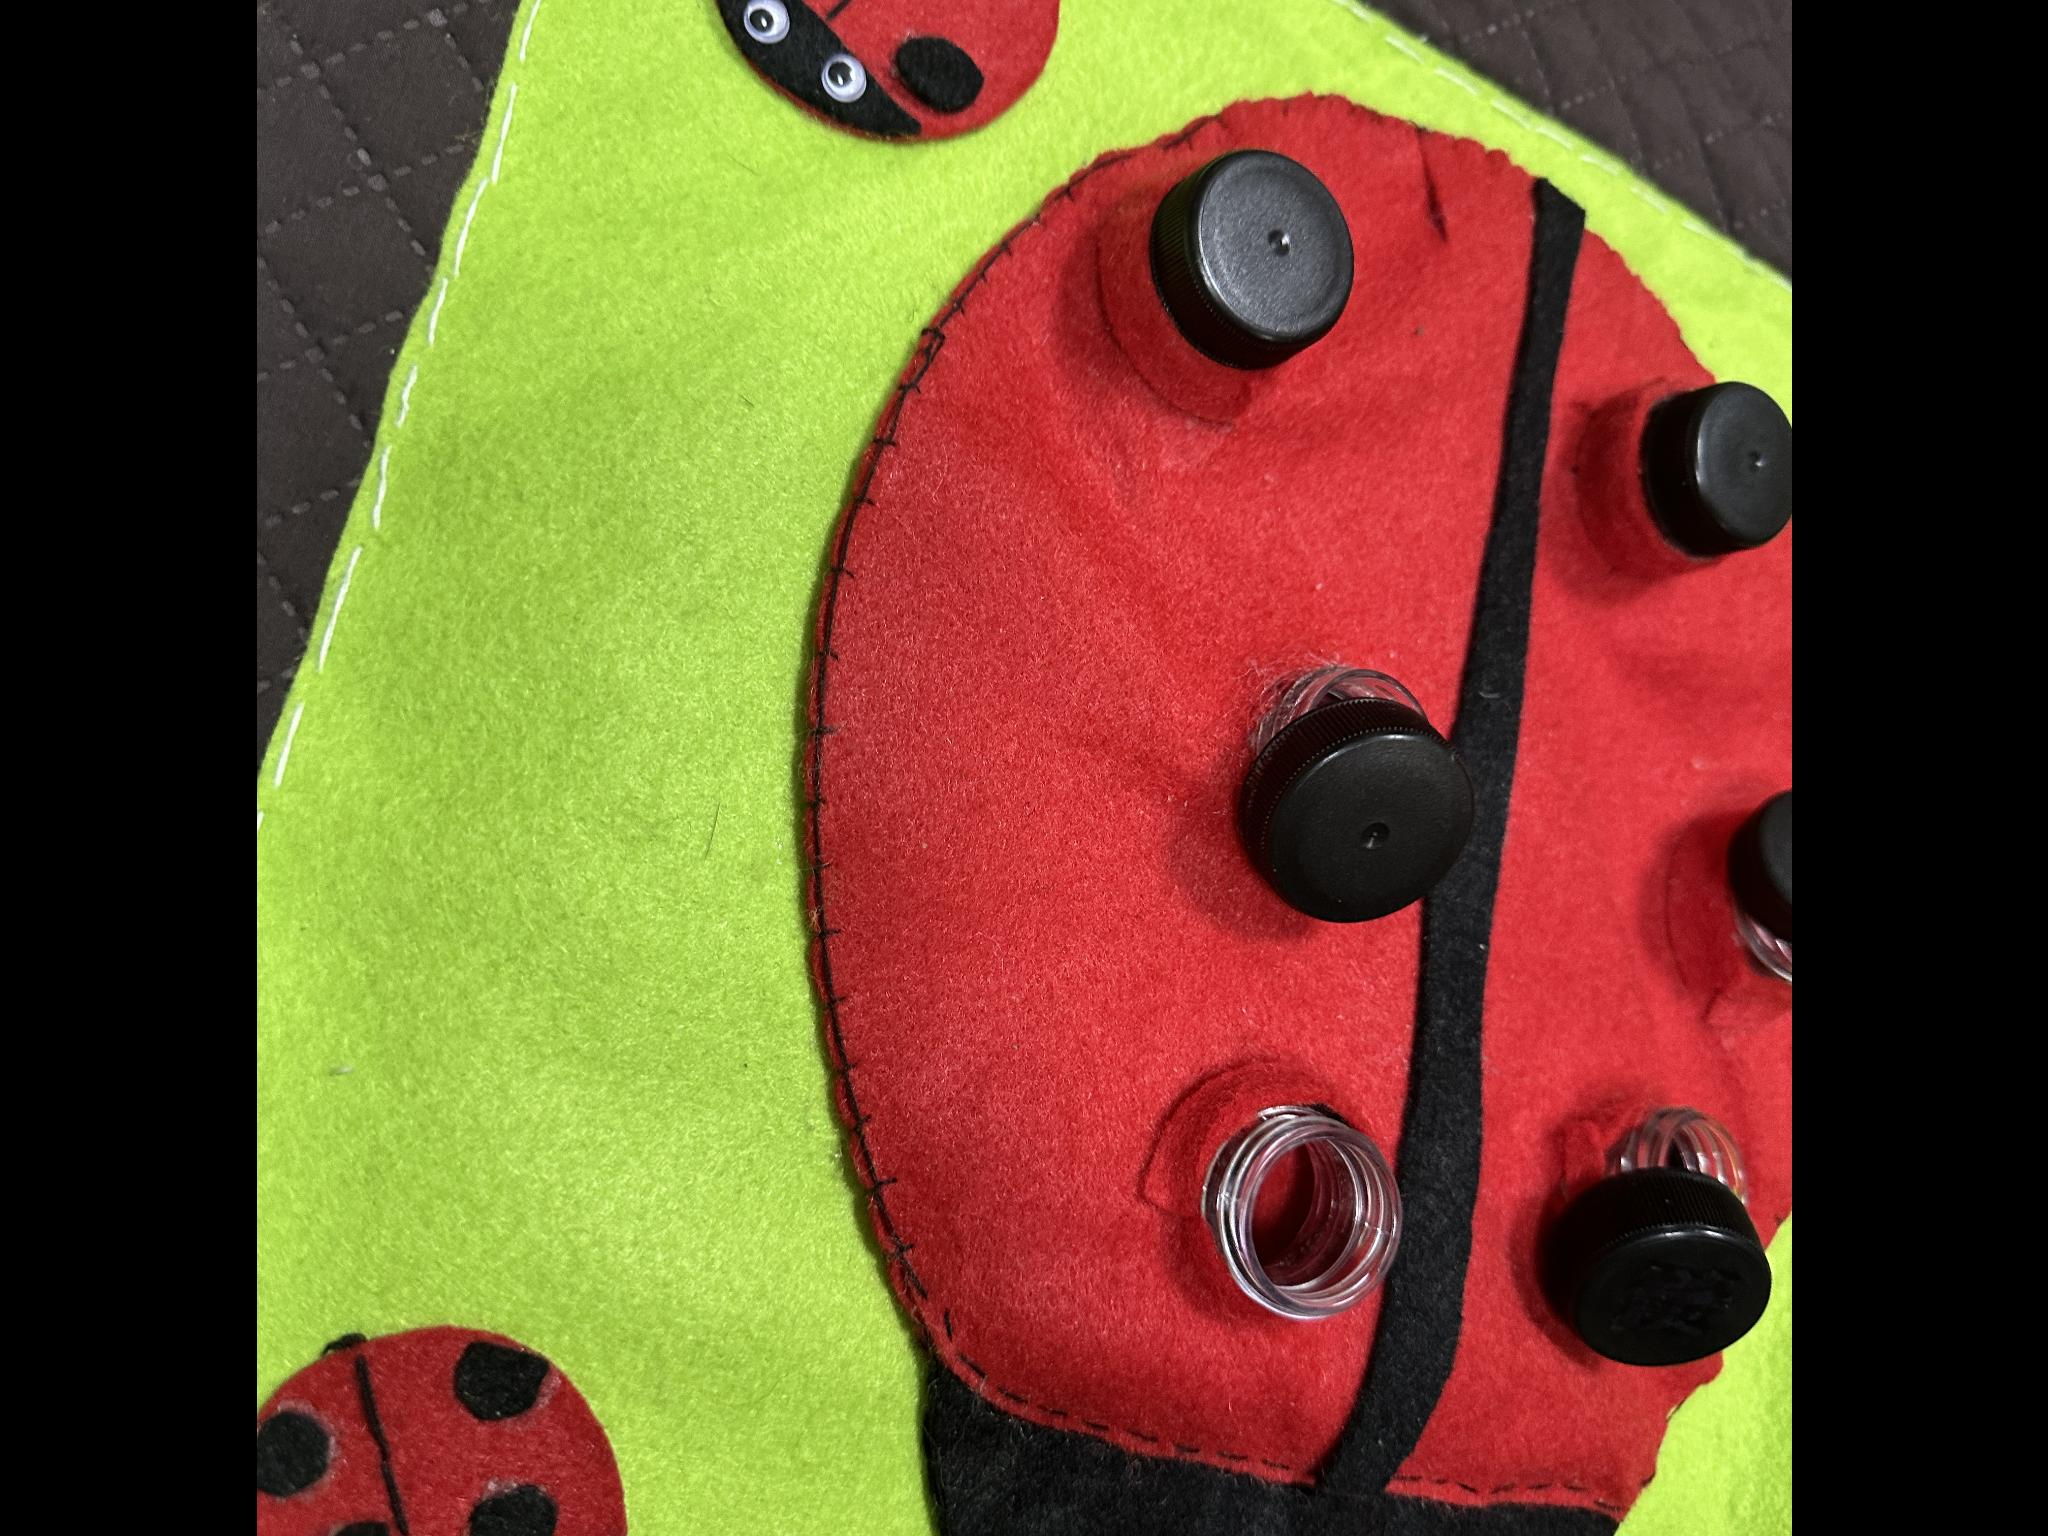cap_ng: (1205, 637, 1496, 936), (1517, 1083, 1787, 1391), (1690, 755, 1792, 1028)
cap_ok: (1077, 145, 1364, 452), (1546, 355, 1792, 599)
